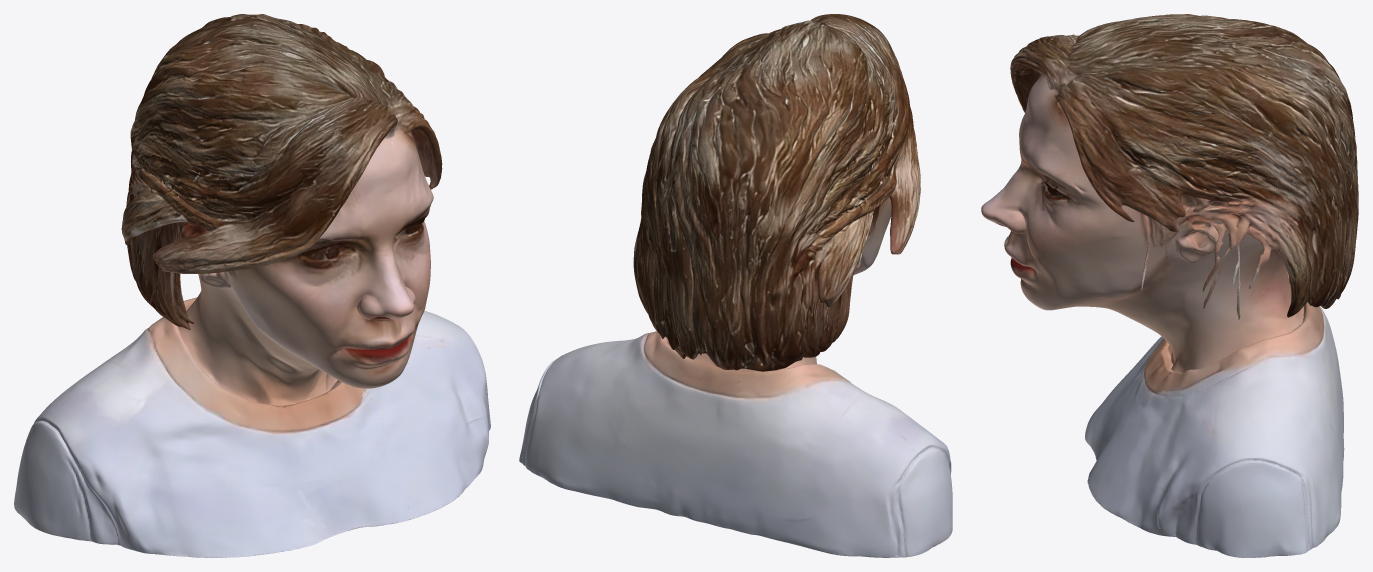
3 views of the same model, side by side, from view 1: azimuth 30°, elevation 25°; view 2: azimuth 150°, elevation 25°; view 3: azimuth 270°, elevation 25° (orthographic). The views are drawn at different scales.
Parts seen in each view (by area): view 1: model; view 2: model; view 3: model.
Part boxes in pixels (x1,y1,x2,y2): model: (14, 14, 490, 557); model: (519, 14, 952, 557); model: (981, 14, 1358, 557).
Bounding box in the file's own units: 1.87 × 1.84 × 1.46.
1 material, 1 textured.
